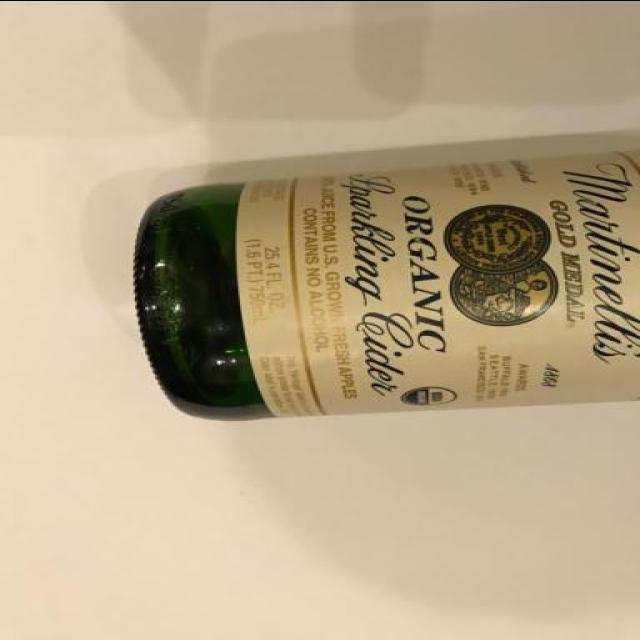glass: (131, 150, 640, 421)
